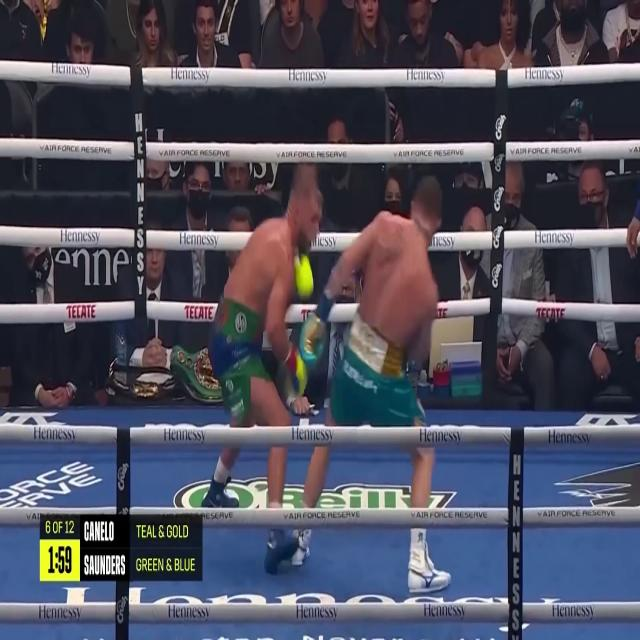boxer_1: (225, 189, 321, 313)
boxer_2: (361, 177, 442, 348)
gloves_1: (282, 346, 305, 394), (294, 255, 314, 295)
gloves_2: (299, 294, 334, 370)
